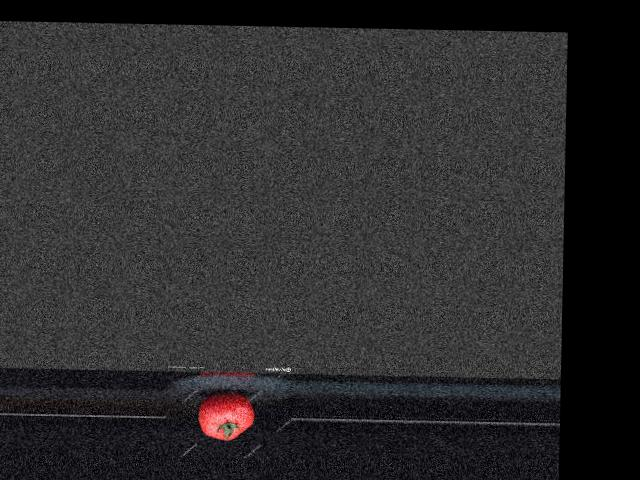tomato: (197, 391, 254, 441)
